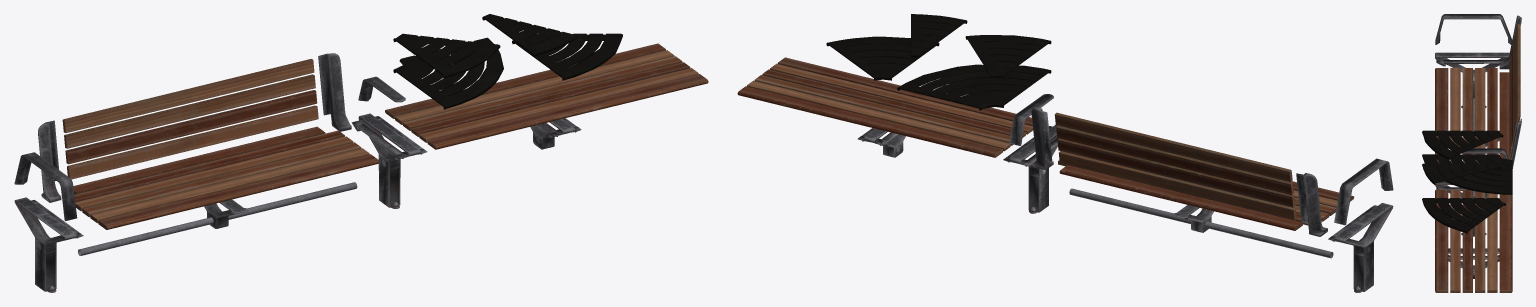
Rendered from modular_street_seating.glb.
3 renders of one model, left to right at view 1: azimuth 30°, elevation 25°; view 2: azimuth 150°, elevation 25°; view 3: azimuth 270°, elevation 25°, orthographic. The views are drawn at different scales.
Visible parts, largest first — view 1: seat, seat_back, connector_60, legs_double, crossbar; view 2: seat, seat_back, connector_60, crossbar, legs_double; view 3: seat, connector_60, legs_double, crossbar, seat_back.
Boxes of the visible parts, x1,y1,x2,y2 form: seat: (73, 43, 708, 229); seat_back: (62, 59, 318, 179); connector_60: (393, 14, 622, 109); legs_double: (14, 113, 581, 292); crossbar: (14, 53, 405, 255); seat: (737, 57, 1354, 230); seat_back: (1054, 112, 1296, 220); connector_60: (826, 14, 1051, 110); crossbar: (1009, 94, 1393, 258); legs_double: (857, 124, 1393, 292); seat: (1435, 68, 1512, 292); connector_60: (1422, 130, 1512, 233); legs_double: (1435, 52, 1509, 278); crossbar: (1435, 14, 1521, 196); seat_back: (1509, 24, 1520, 157).
Bounding box in the file's own units: 4.34 × 0.9498 × 0.7704.
4 materials, 4 textured.
